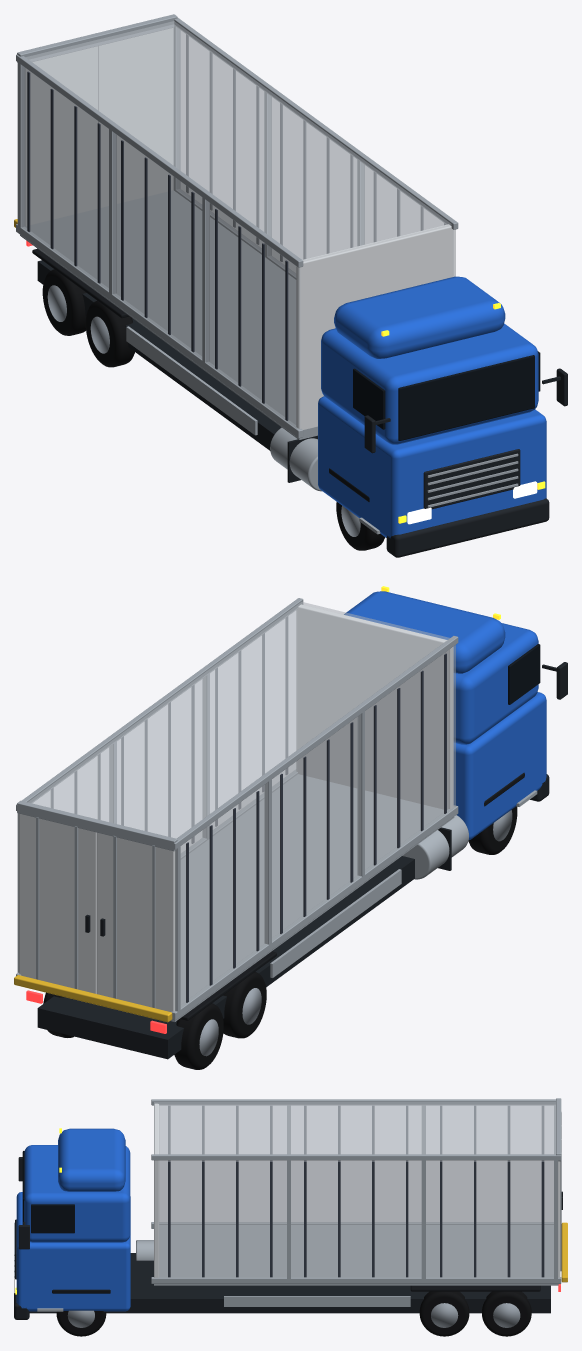
File: truck.glb
The picture shows the model from 3 angles, top to bottom: view 1: azimuth 30°, elevation 25°; view 2: azimuth 150°, elevation 25°; view 3: azimuth 270°, elevation 25°; orthographic projection. The views are drawn at different scales.
Visible parts, largest first — view 1: TarpRoof, Tarp_-1, Tarp_1, CargoFloor, CabLower, FrontWall, DoorPanel_R, DoorPanel_L, CabUpper, Deflector, Windshield, Bumper (+19 smaller); view 2: TarpRoof, Tarp_-1, Tarp_1, CargoFloor, FrontWall, DoorPanel_L, DoorPanel_R, CabLower, Chassis, Deflector, CabUpper, BottomRail_-1 (+29 smaller); view 3: Tarp_1, Tarp_-1, TarpRoof, CargoFloor, Chassis, CabLower, CabUpper, Deflector, BottomRail_1, TopRail_1, TopRail_-1, SideGuard_1 (+29 smaller).
Boxes of the visible parts, <box> form: TarpRoof: <box>26,21,451,262</box>; Tarp_-1: <box>22,66,300,428</box>; Tarp_1: <box>179,30,455,276</box>; CargoFloor: <box>20,190,317,439</box>; CabLower: <box>318,396,546,538</box>; FrontWall: <box>296,224,453,429</box>; DoorPanel_R: <box>98,28,173,207</box>; DoorPanel_L: <box>25,46,97,225</box>; CabUpper: <box>321,323,538,444</box>; Deflector: <box>334,276,505,358</box>; Windshield: <box>398,355,534,440</box>; Bumper: <box>386,498,549,557</box>; TarpRoof: <box>28,602,449,838</box>; Tarp_-1: <box>175,645,455,1010</box>; Tarp_1: <box>18,610,296,972</box>; CargoFloor: <box>170,774,454,1021</box>; FrontWall: <box>296,604,453,809</box>; DoorPanel_L: <box>96,832,175,1011</box>; DoorPanel_R: <box>19,814,96,993</box>; CabLower: <box>453,692,546,839</box>; Chassis: <box>37,856,414,1059</box>; Deflector: <box>344,591,505,673</box>; CabUpper: <box>453,623,538,744</box>; BottomRail_-1: <box>171,805,458,1020</box>; Tarp_1: <box>154,1160,558,1277</box>; Tarp_-1: <box>159,1106,553,1222</box>; TarpRoof: <box>154,1102,555,1154</box>; CargoFloor: <box>154,1225,558,1285</box>; Chassis: <box>29,1253,550,1313</box>; CabLower: <box>16,1192,130,1311</box>; CabUpper: <box>24,1145,130,1242</box>; Deflector: <box>58,1128,125,1191</box>; BottomRail_1: <box>151,1277,561,1283</box>; TopRail_1: <box>151,1154,561,1160</box>; TopRail_-1: <box>151,1099,555,1105</box>; SideGuard_1: <box>224,1296,410,1306</box>.
Size of the model in its own units: 3.17 by 3.94 by 10.68.
